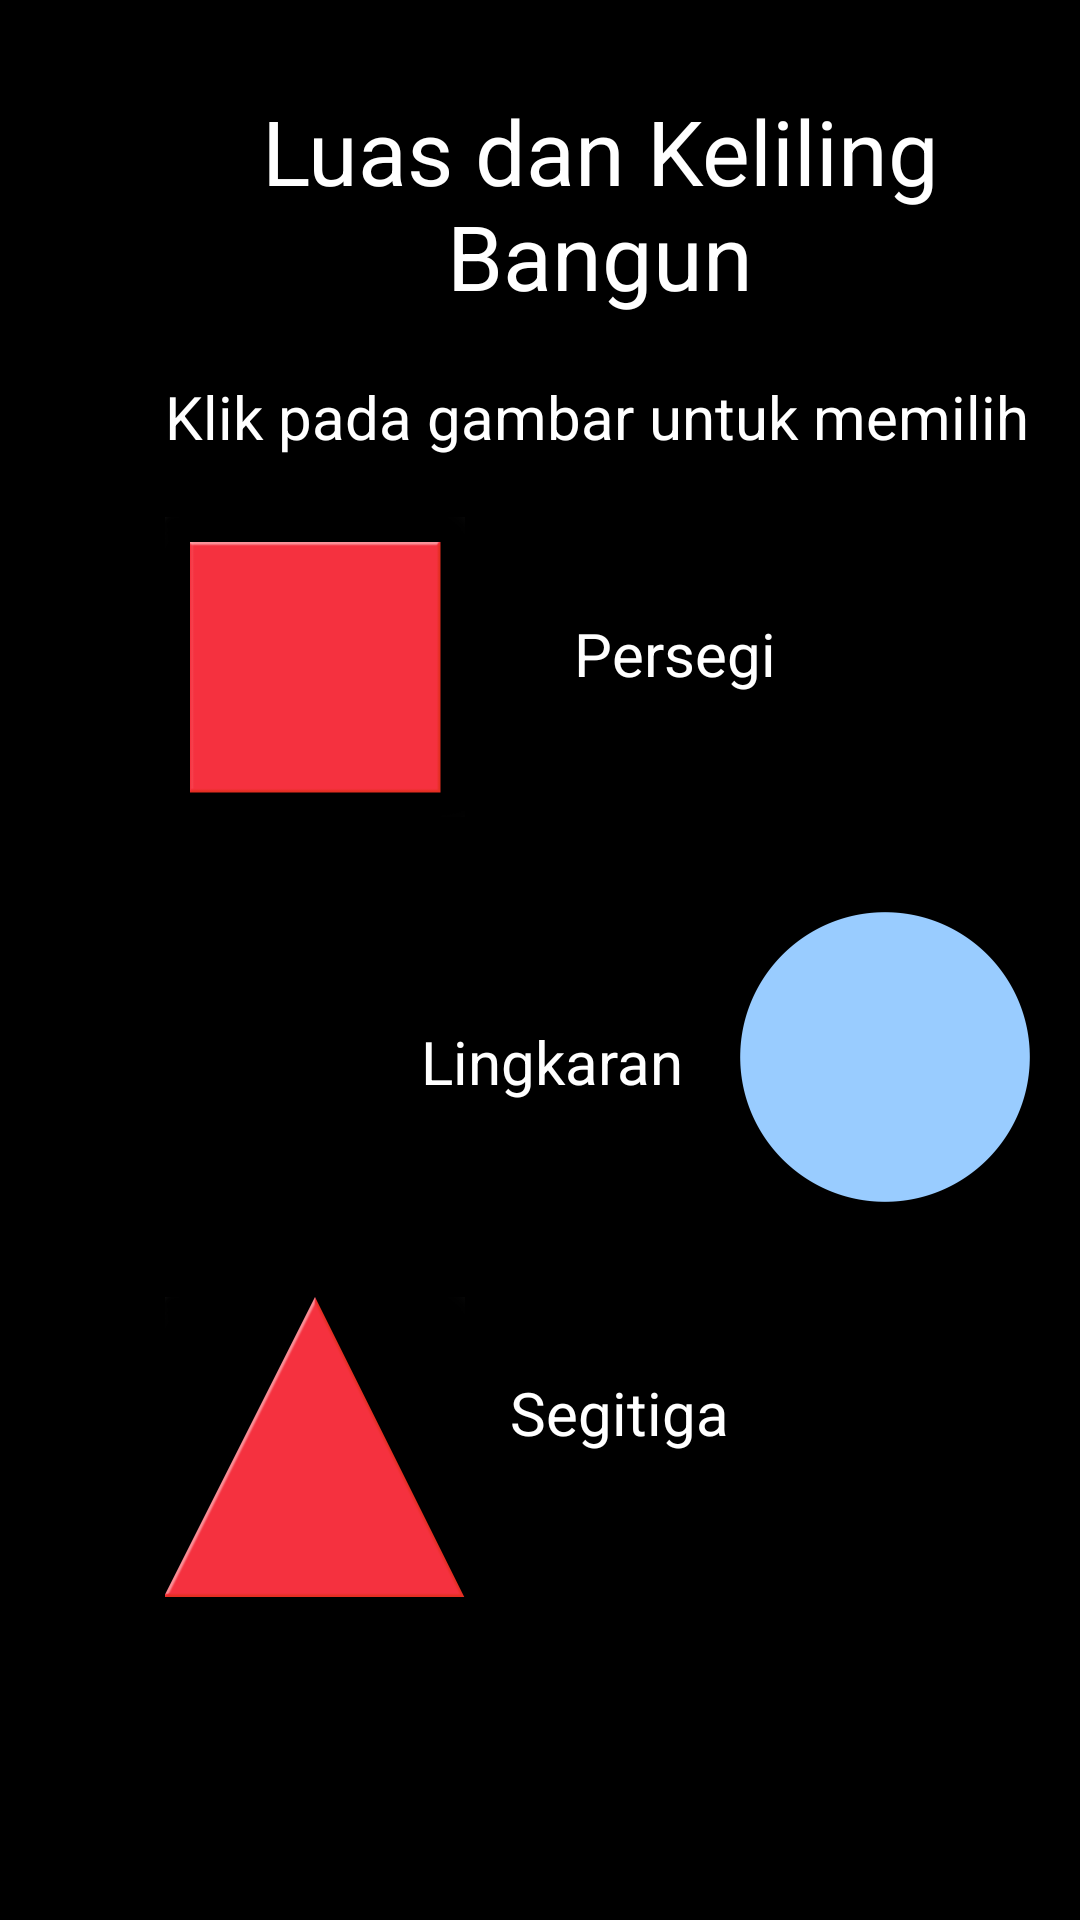

Icon bounding boxes for this 1080 × 1920 phone screenshot, format [x1, y1, x2, y2]:
circle: [740, 912, 1030, 1202]
triangle: [165, 1297, 464, 1597]
